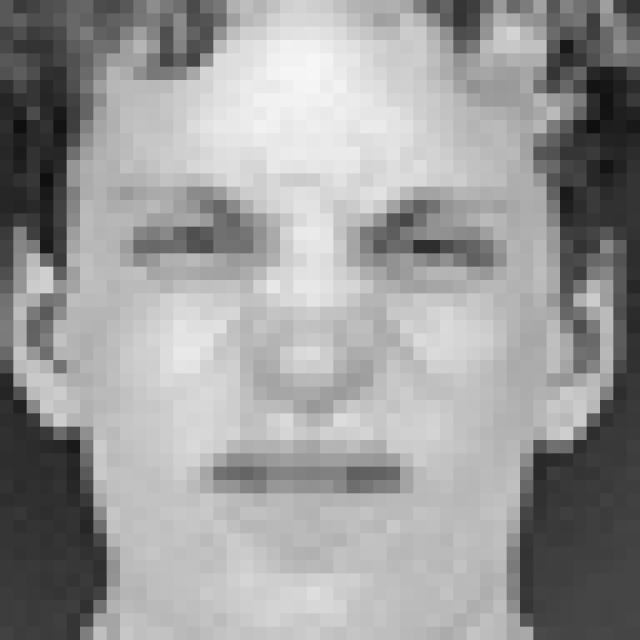disgust: (116, 183, 514, 568)
